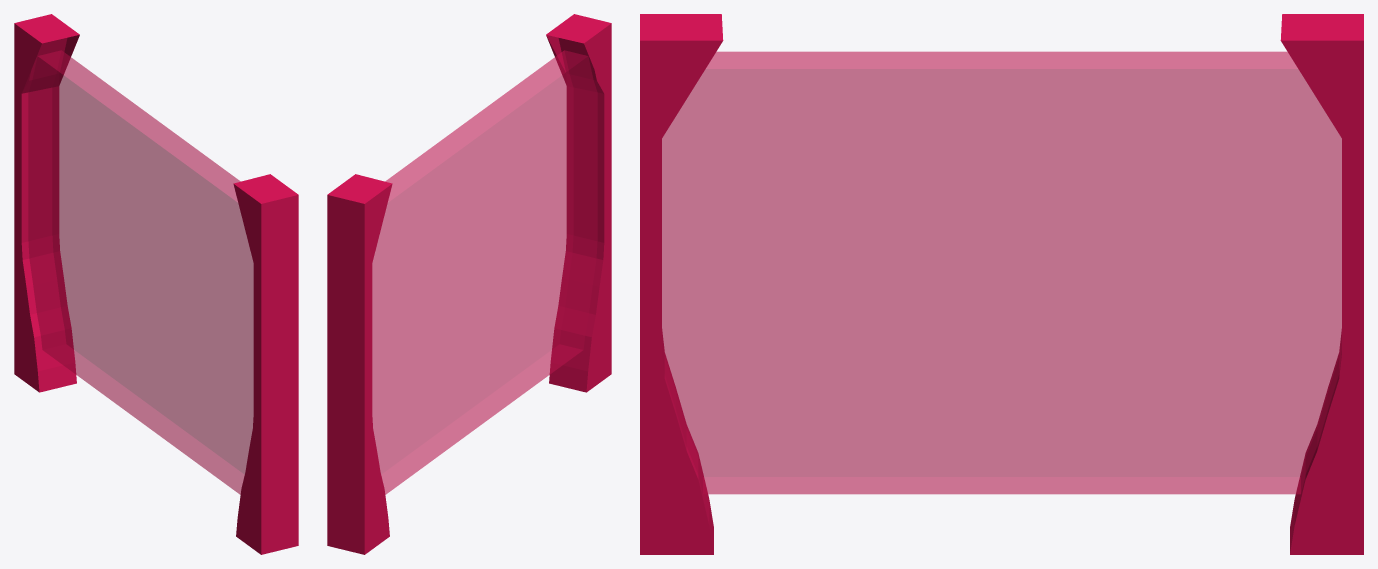
The model's file is rStenka (2).fbx.
The picture shows the model from 3 angles, left to right: view 1: azimuth 30°, elevation 25°; view 2: azimuth 150°, elevation 25°; view 3: azimuth 270°, elevation 25°; orthographic projection. The views are drawn at different scales.
Visible parts, largest first — view 1: Cube.004; view 2: Cube.004; view 3: Cube.004.
Boxes of the visible parts, x1,y1,x2,y2 form: Cube.004: (14, 14, 298, 554); Cube.004: (327, 14, 611, 554); Cube.004: (640, 14, 1363, 554).
Size of the model in its own units: 98.7 by 882 by 1125.
